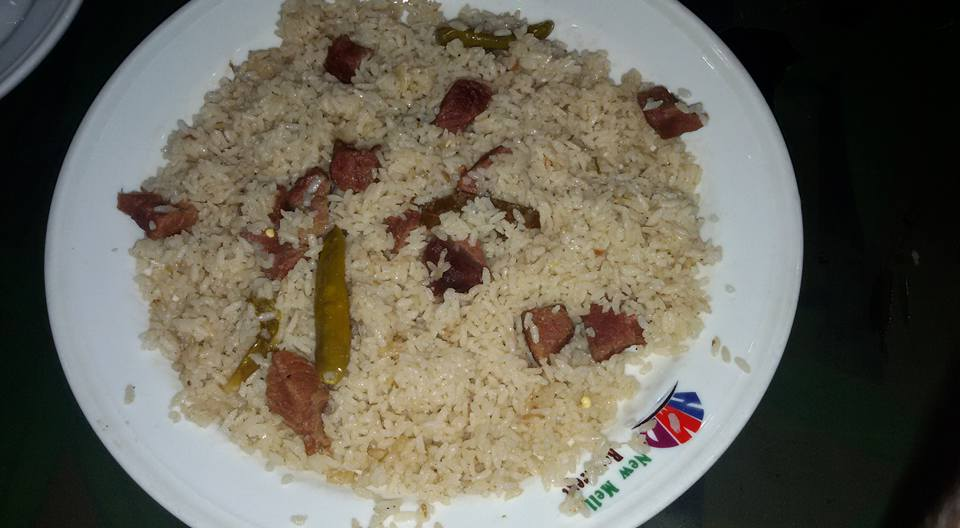tehari: (126, 2, 725, 502)
